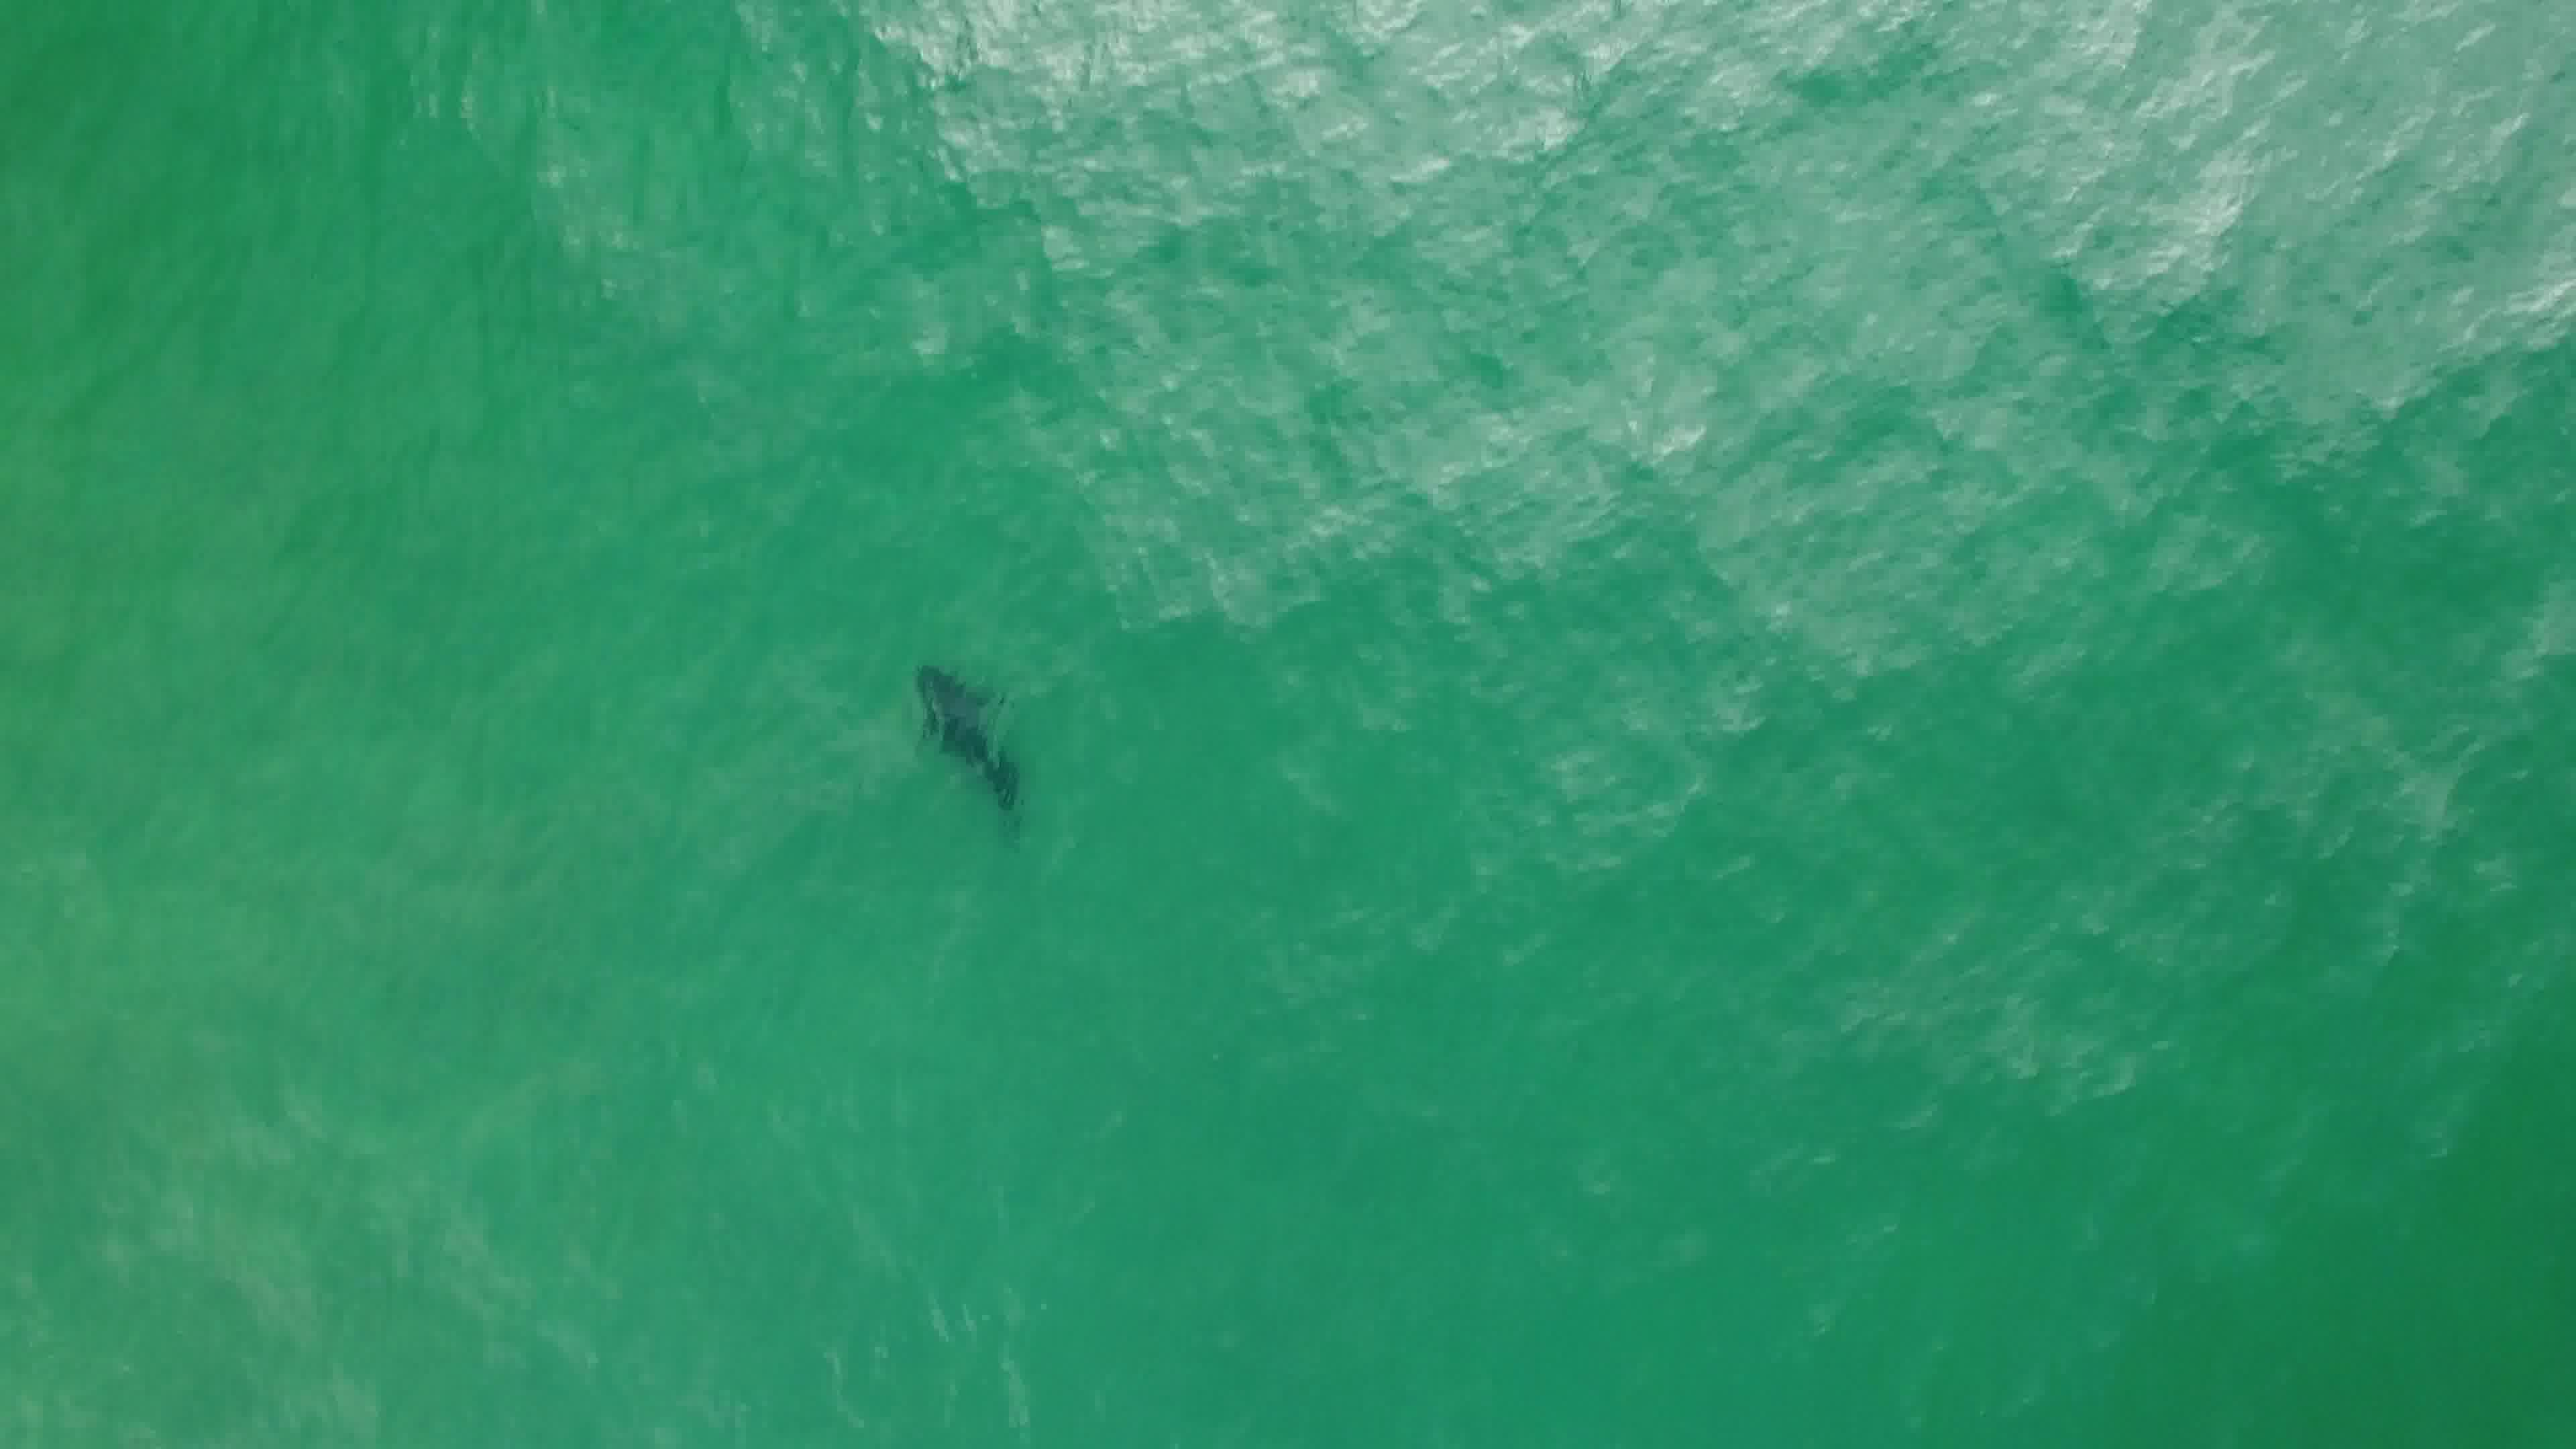shark: (904, 651, 1033, 824)
